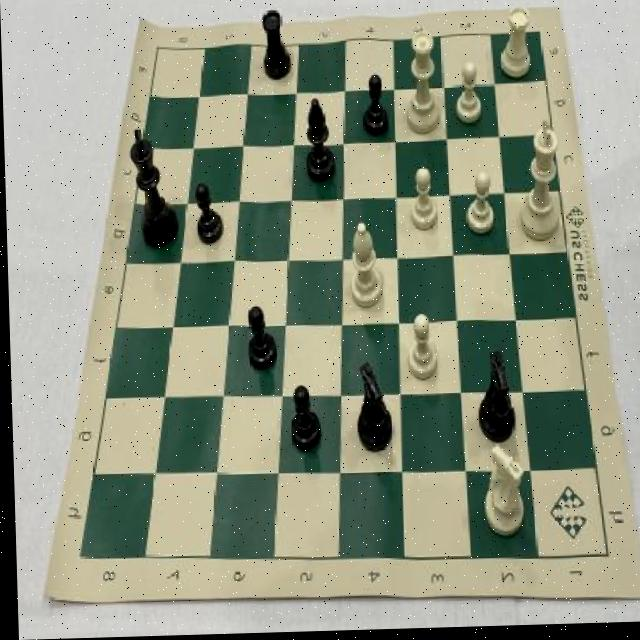bishop: (300, 92, 339, 189)
black-bishop: (124, 119, 180, 250)
black-king: (472, 347, 522, 448), (349, 360, 394, 460)
black-knight: (284, 379, 325, 458), (240, 303, 278, 379), (191, 178, 226, 251), (357, 66, 390, 141)
black-queen: (256, 4, 296, 88)
black-rook: (344, 220, 384, 316)
white-bishop: (512, 118, 562, 249)
white-king: (476, 442, 528, 546)
white-knight: (402, 310, 440, 389), (404, 162, 441, 240), (452, 60, 485, 133), (463, 169, 495, 243)
white-pawn: (401, 28, 442, 141)
white-queen: (493, 4, 538, 90)
